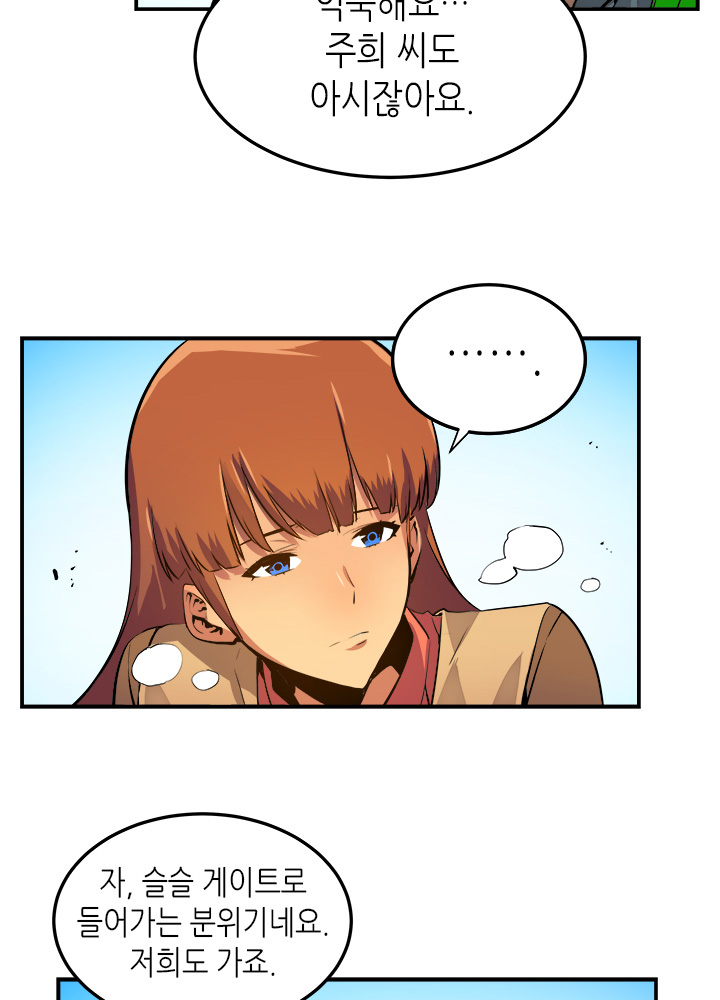dialog box: (166, 1, 612, 206), (23, 779, 397, 1000), (351, 257, 620, 469)
text: (62, 831, 347, 1000), (278, 1, 506, 156), (418, 310, 568, 398)
